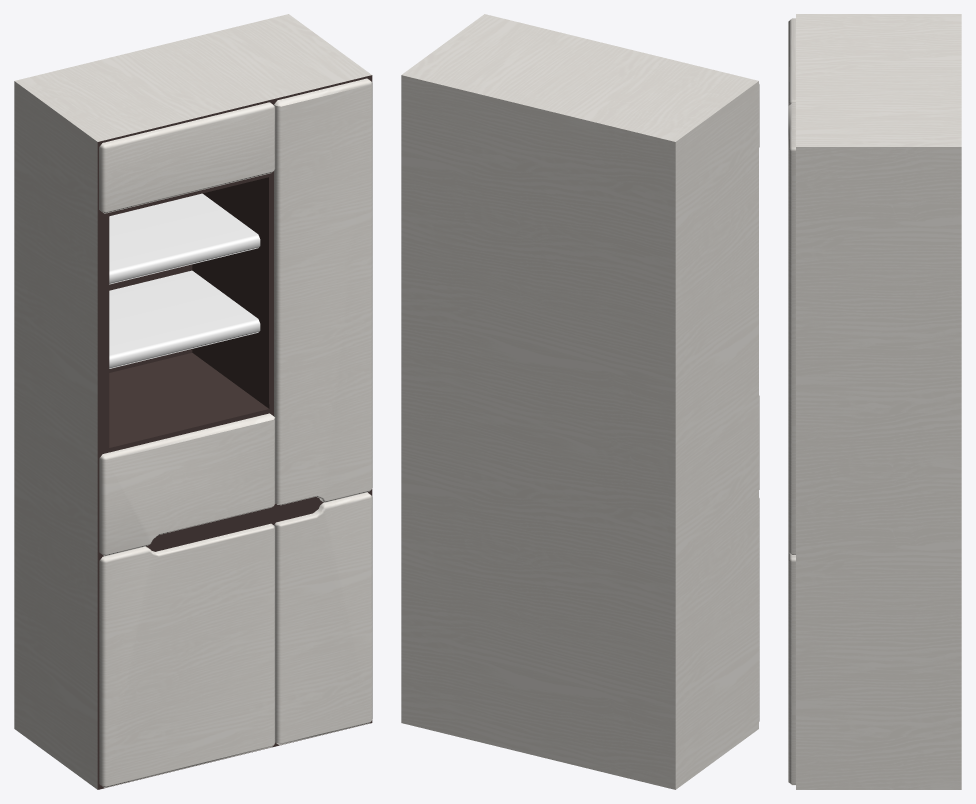
Rendered from wall cabinet_005.fbx.
3 renders of one model, left to right at view 1: azimuth 30°, elevation 25°; view 2: azimuth 150°, elevation 25°; view 3: azimuth 270°, elevation 25°, orthographic.
Visible parts, largest first — view 1: wall cabinet_005; view 2: wall cabinet_005; view 3: wall cabinet_005.
Boxes of the visible parts, box(x1,y1,x2,y2) form: wall cabinet_005: box(14, 14, 372, 789); wall cabinet_005: box(401, 14, 759, 789); wall cabinet_005: box(788, 14, 961, 789).
Size of the model in its own units: 120 by 66.51 by 272.
